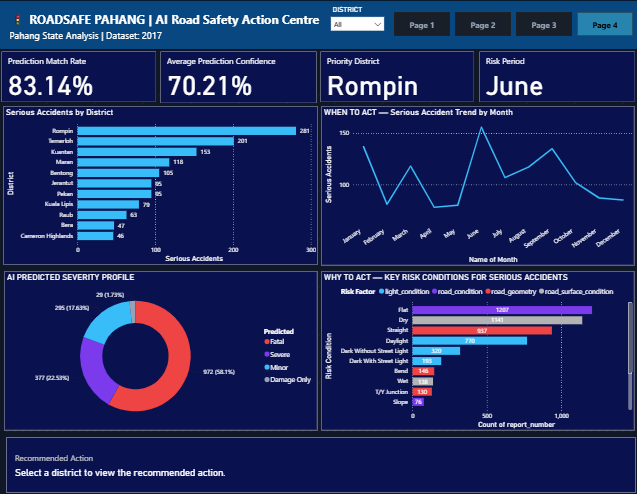

This screenshot's page, from the dashboard's own definition file:
{"tool":"powerbi","page":{"name":"Page 4","canvas":[1280,1000],"ordinal":3},"visuals":[{"type":"textbox","title":"🚦 ROADSAFE PAHANG | AI Road Safety Action Centre","box":[0,1,1279.5,99.3],"z":0},{"type":"slicer","fields":{"Values":["road_accident_cleaned.district"]},"box":[654.5,7.8,125.6,71.3],"z":1000},{"type":"cardVisual","fields":{"Data":["SEVERITY_PREDICTION MODEL.Prediction Match Rate"]},"box":[0,100.8,319.5,111.7],"z":2000},{"type":"clusteredBarChart","fields":{"Category":["road_accident_cleaned.district"],"Y":["road_accident_cleaned.Serious Accidents"]},"box":[7.8,214,629.7,317.9],"z":3000},{"type":"cardVisual","fields":{"Data":["road_accident_cleaned.Recommended Action Rompin"]},"box":[14,876.2,1260,111.7],"z":4000},{"type":"lineChart","title":"WHEN TO ACT — Serious Accident Trend by Month","fields":{"Category":["road_accident_cleaned.month_name"],"Y":["road_accident_cleaned.Serious Accidents"]},"box":[643.6,214,626.6,319.5],"z":5000},{"type":"barChart","title":"WHY TO ACT — KEY RISK CONDITIONS FOR SERIOUS ACCIDENTS","fields":{"Category":["Accident_Risk_Factors.Risk Condition"],"Series":["Accident_Risk_Factors.Risk Factor"],"Y":["CountNonNull(Accident_Risk_Factors.report_number)"]},"box":[643.6,544.4,626.6,319.5],"z":6000},{"type":"donutChart","title":"AI PREDICTED SEVERITY PROFILE","fields":{"Category":["SEVERITY_PREDICTION MODEL.Predicted"],"Y":["CountNonNull(SEVERITY_PREDICTION MODEL.report_number)"]},"box":[10.9,544.4,626.6,319.5],"z":7000},{"type":"cardVisual","fields":{"Data":["SEVERITY_PREDICTION MODEL.Average Prediction Confidence"]},"box":[317.9,100.8,322.6,113.2],"z":8000},{"type":"cardVisual","fields":{"Data":["road_accident_cleaned.Priority District"]},"box":[637.4,100.8,317.9,111.7],"z":9000},{"type":"cardVisual","fields":{"Data":["road_accident_cleaned.Risk Period"]},"box":[955.3,100.8,321,111.7],"z":10000},{"type":"pageNavigator","box":[790.9,26.4,480,48],"z":10001}]}

Visuals, with their boxes in screenshot pixels (x1, y1, x2, y2), scaled from the page's 1280x1000 canvas onto the 637x494 screenshot:
"🚦 ROADSAFE PAHANG | AI Road Safety Action Centre" textbox: 0, 0, 636, 50
slicer - road_accident_cleaned.district: 326, 4, 388, 39
cardVisual - SEVERITY_PREDICTION MODEL.Prediction Match Rate: 0, 50, 159, 105
clusteredBarChart - road_accident_cleaned.district x road_accident_cleaned.Serious Accidents: 4, 106, 317, 263
cardVisual - road_accident_cleaned.Recommended Action Rompin: 7, 433, 634, 488
"WHEN TO ACT — Serious Accident Trend by Month" lineChart: 320, 106, 632, 264
"WHY TO ACT — KEY RISK CONDITIONS FOR SERIOUS ACCIDENTS" barChart: 320, 269, 632, 427
"AI PREDICTED SEVERITY PROFILE" donutChart: 5, 269, 317, 427
cardVisual - SEVERITY_PREDICTION MODEL.Average Prediction Confidence: 158, 50, 319, 106
cardVisual - road_accident_cleaned.Priority District: 317, 50, 475, 105
cardVisual - road_accident_cleaned.Risk Period: 475, 50, 635, 105
pageNavigator: 394, 13, 632, 37
